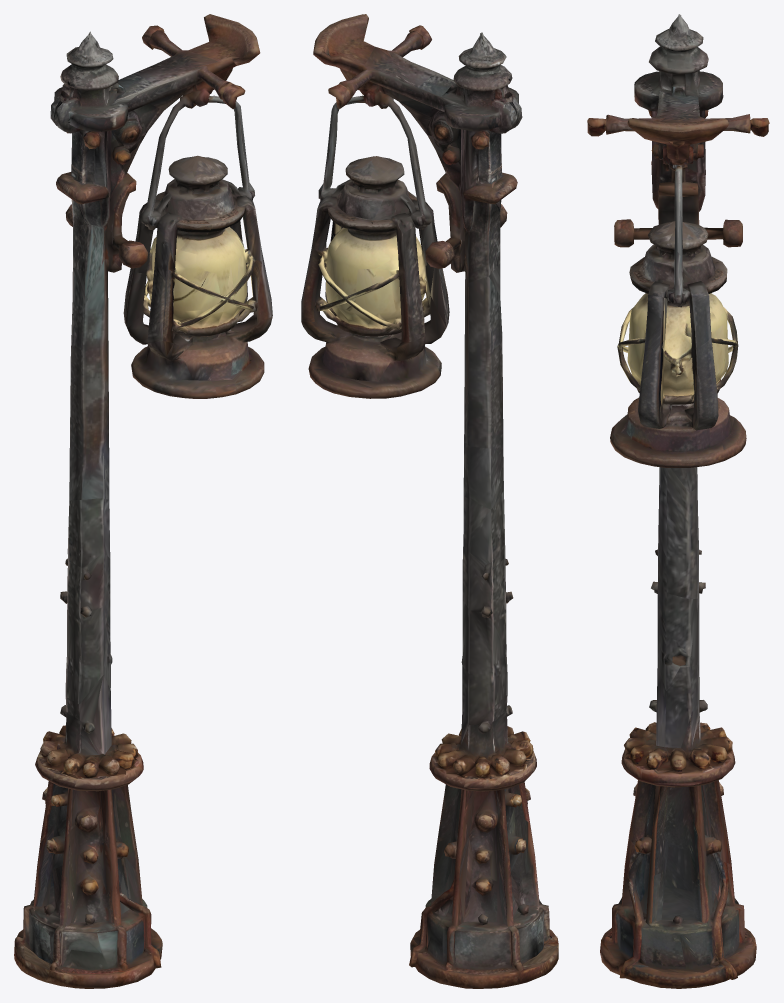
File: prop_gulch_lamp.fbx
3 renders of one model, left to right at view 1: azimuth 30°, elevation 25°; view 2: azimuth 150°, elevation 25°; view 3: azimuth 270°, elevation 25°, orthographic. The views are drawn at different scales.
Parts seen in each view (by area): view 1: prop_gulch_lamp_LOD0; view 2: prop_gulch_lamp_LOD0; view 3: prop_gulch_lamp_LOD0.
Part boxes in pixels (<box>): prop_gulch_lamp_LOD0: <box>14,14,272,988</box>; prop_gulch_lamp_LOD0: <box>301,14,558,988</box>; prop_gulch_lamp_LOD0: <box>587,14,769,988</box>.
Size of what is drawn, in the model's own units: 0.2602 by 0.9812 by 0.172.
